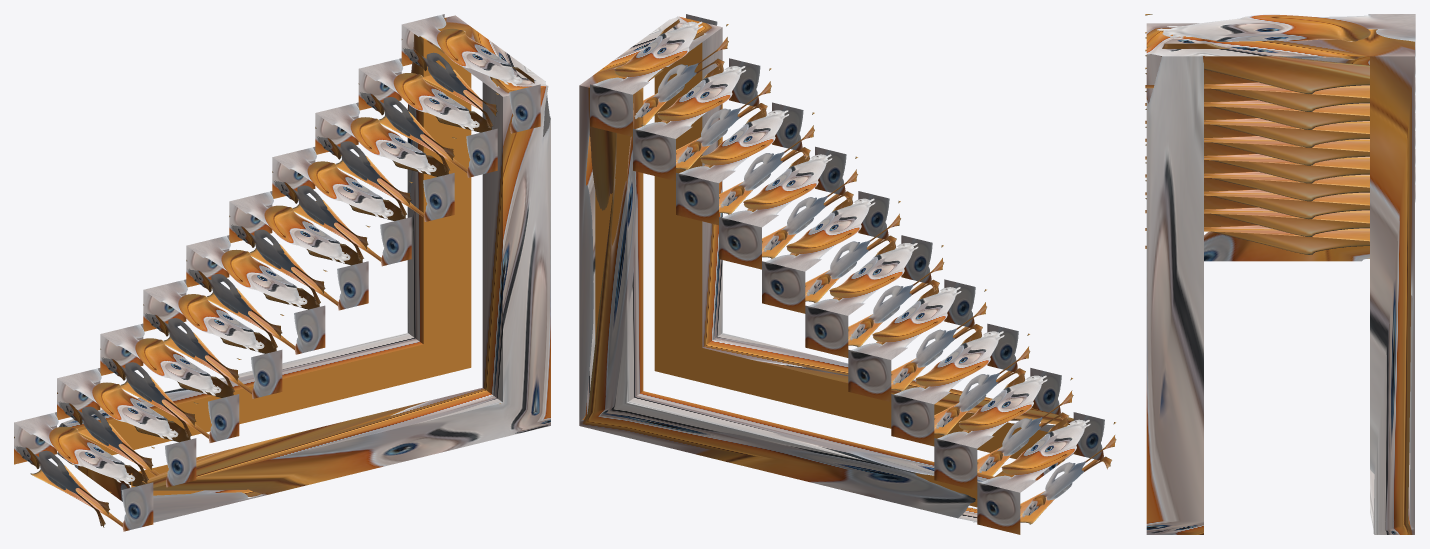
Rendered from DuckDuckTrepp.fbx.
3 renders of one model, left to right at view 1: azimuth 30°, elevation 25°; view 2: azimuth 150°, elevation 25°; view 3: azimuth 270°, elevation 25°, orthographic. The views are drawn at different scales.
Parts seen in each view (by area): view 1: Plane; view 2: Plane; view 3: Plane.
Boxes of the visible parts, box(x1,y1,x2,y2) form: Plane: box(14, 14, 550, 531); Plane: box(579, 14, 1116, 534); Plane: box(1145, 14, 1415, 534).
Bounding box in the file's own units: 1311 × 981 × 494.
